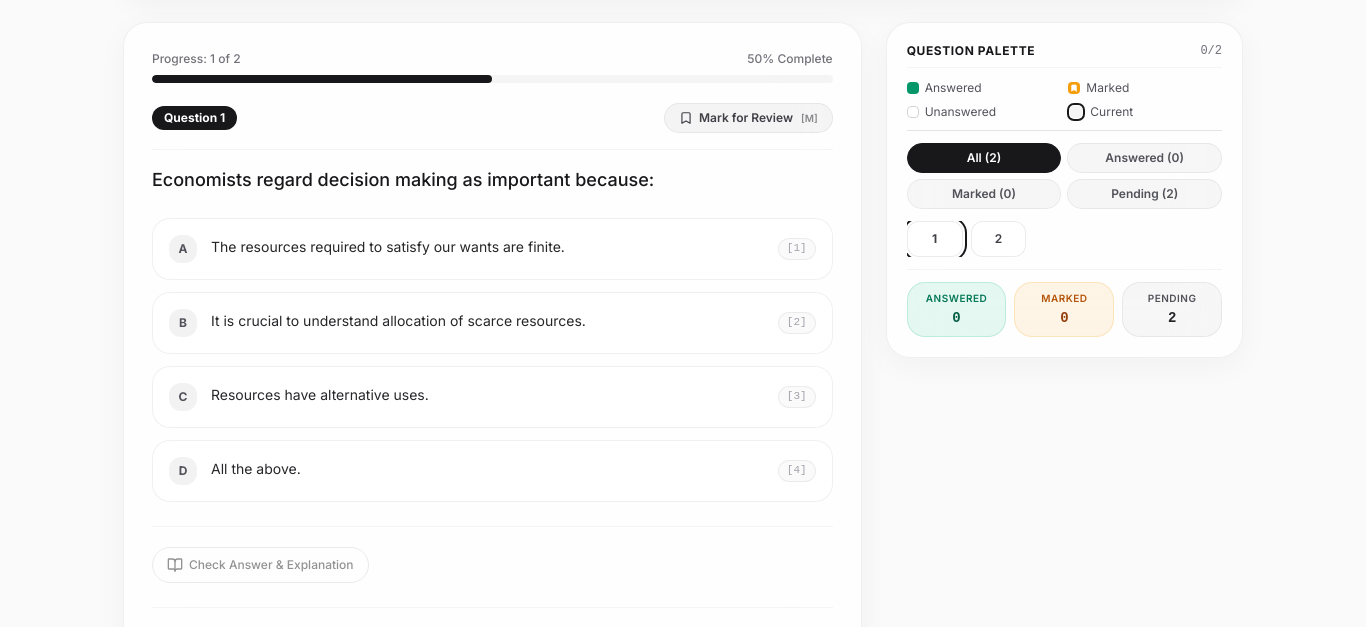
Test: NAYRA Built-in CA Tracker — Digital Economics Exercises Integration › 3. ExerciseSessionView & Keyboard Shortcuts Interaction › handles interactive option selection, mark for review, and answer reveal
This screenshot has width=1366, height=627.
Expected: the text "Progress: 1 of 2" is shown, [152,51,241,67]
Expected: the text "50% Complete" is shown, [747,51,833,67]
Click option D
Click the text "All the above.": (256, 468) [211,460,301,477]
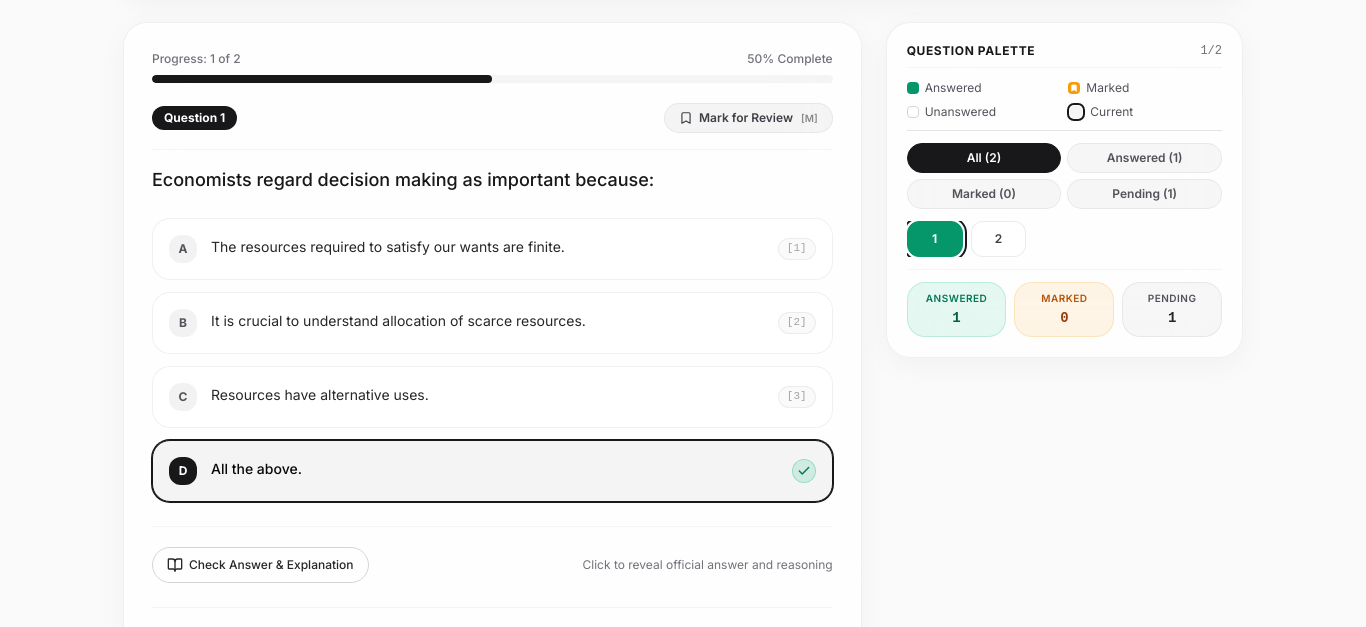
Mark for review
Click the button "Mark for Review [M]": (748, 118) [664,103,833,133]
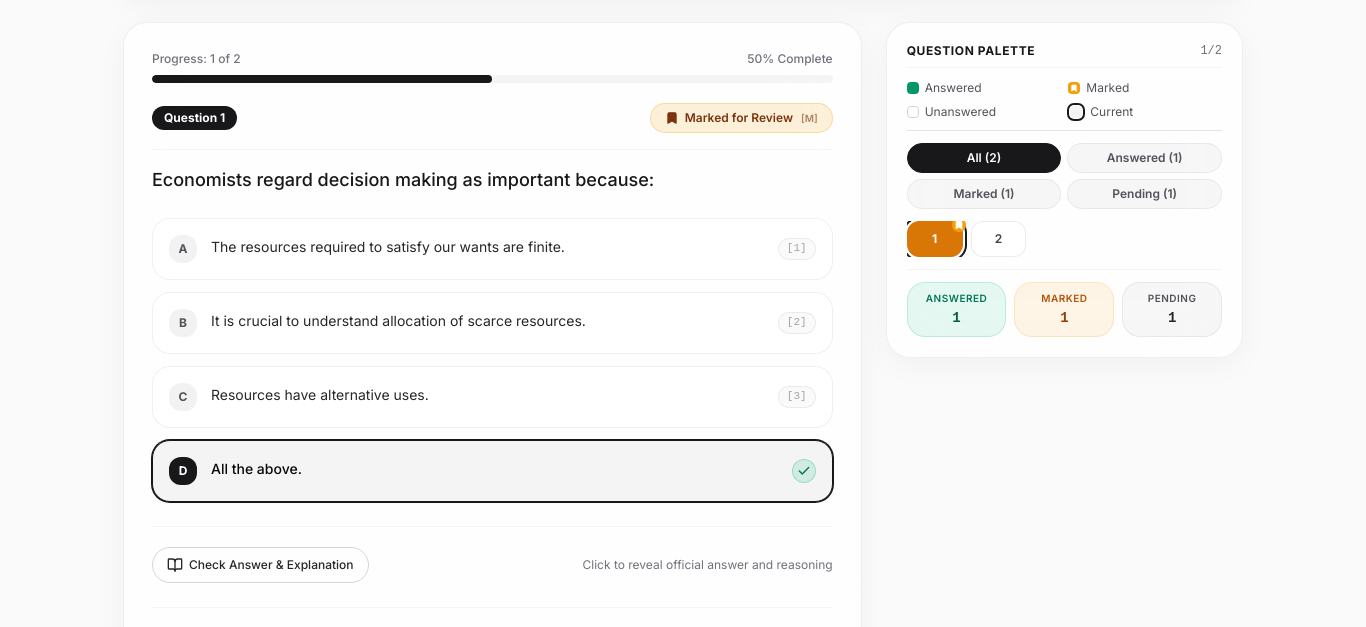
Result: the button "Marked for Review [M]" is shown at [650,103,833,133]
Practice mode explanation
Click the button "Check Answer & Explanation": (260, 565) [152,547,369,583]
(page scrolled)
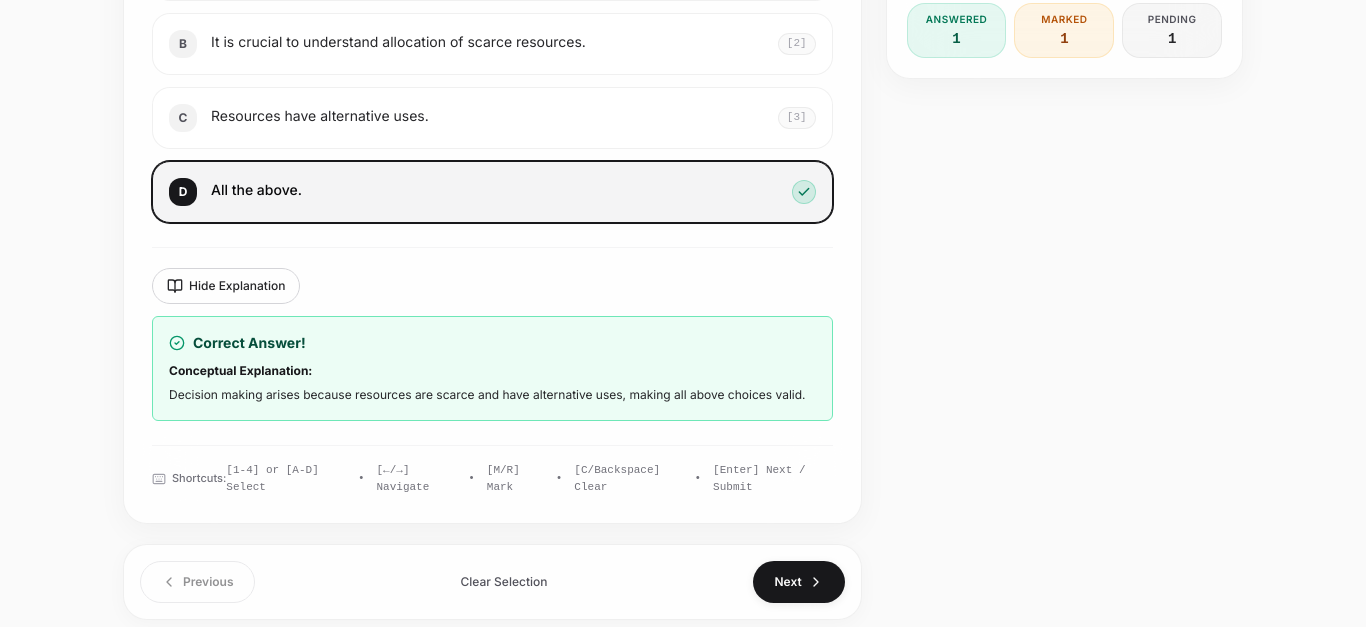
Result: the text "Correct Answer!" is shown at [193,333,306,353]
Result: the text "Decision making arises because resources are scarce" is shown at [169,386,806,402]
